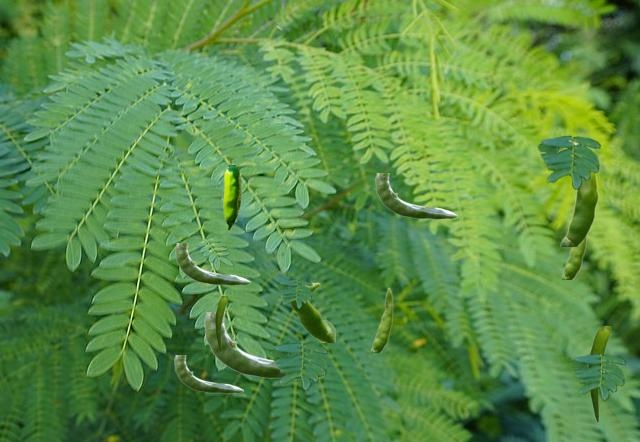green_chili: (204, 312, 323, 378), (375, 173, 456, 218), (560, 156, 598, 245), (175, 243, 249, 284), (289, 282, 334, 341), (174, 355, 242, 392), (589, 326, 609, 421), (371, 287, 392, 351), (223, 165, 240, 229), (562, 238, 586, 278), (215, 296, 226, 351)
